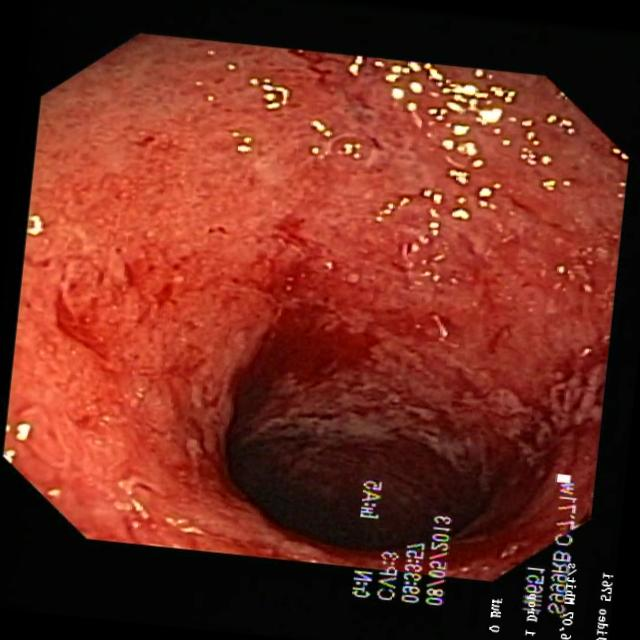ulcerative-colities: (0, 28, 631, 584)
